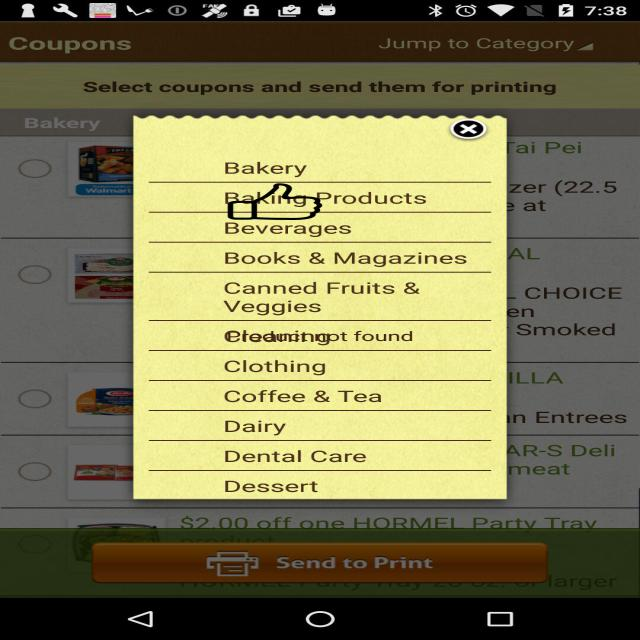privacy zuckering: (226, 183, 324, 220)
